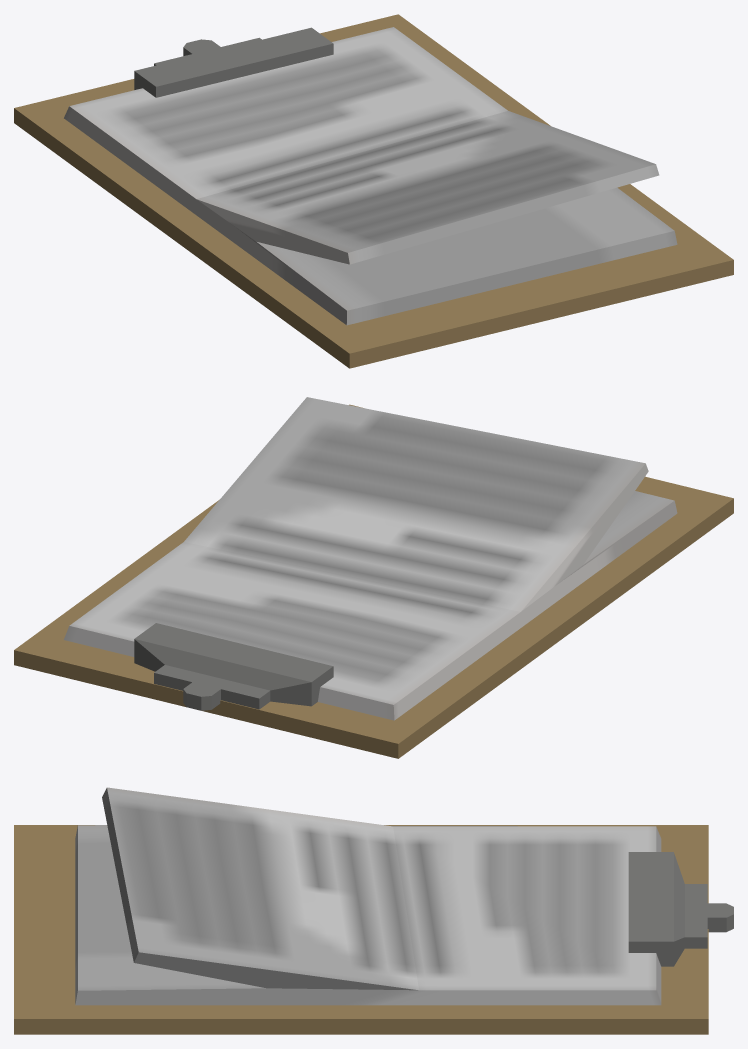
File: SM_Item_Clipboard_01.fbx
3 views of the same model, one above another, from view 1: azimuth 30°, elevation 25°; view 2: azimuth 150°, elevation 25°; view 3: azimuth 270°, elevation 25° (orthographic). The views are drawn at different scales.
Parts seen in each view (by area): view 1: SM_Item_Clipboard_01; view 2: SM_Item_Clipboard_01; view 3: SM_Item_Clipboard_01.
Boxes of the visible parts, x1,y1,x2,y2 form: SM_Item_Clipboard_01: (14,14,733,368); SM_Item_Clipboard_01: (14,397,733,758); SM_Item_Clipboard_01: (14,787,733,1034).
Size of the model in its own units: 27.58 by 4.96 by 43.22.
